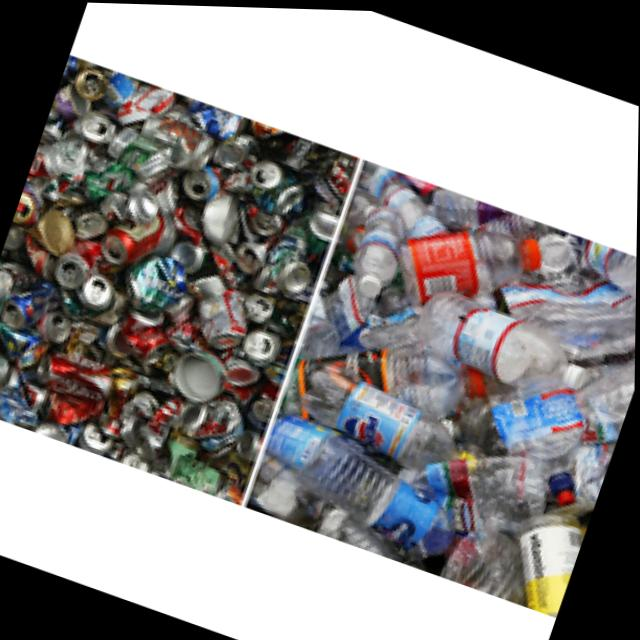aluminum_soda_cans: (91, 196, 180, 281), (122, 247, 194, 320), (189, 277, 254, 354), (241, 158, 308, 218), (0, 278, 54, 342), (45, 245, 95, 298), (177, 159, 228, 208), (70, 64, 118, 111), (75, 269, 120, 319), (77, 103, 122, 149), (30, 306, 75, 349), (241, 325, 283, 368), (77, 416, 118, 458), (14, 189, 43, 226)
plastic_soda_bottles: (382, 191, 548, 336), (341, 194, 415, 302), (570, 233, 637, 304)
plastic_water_bottles: (286, 424, 478, 565), (294, 355, 484, 482), (411, 277, 601, 401)
